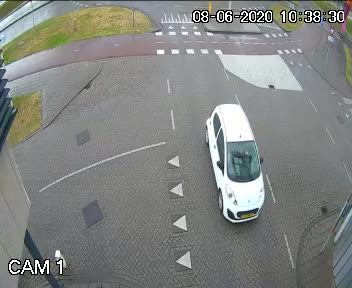car: (193, 94, 278, 224)
